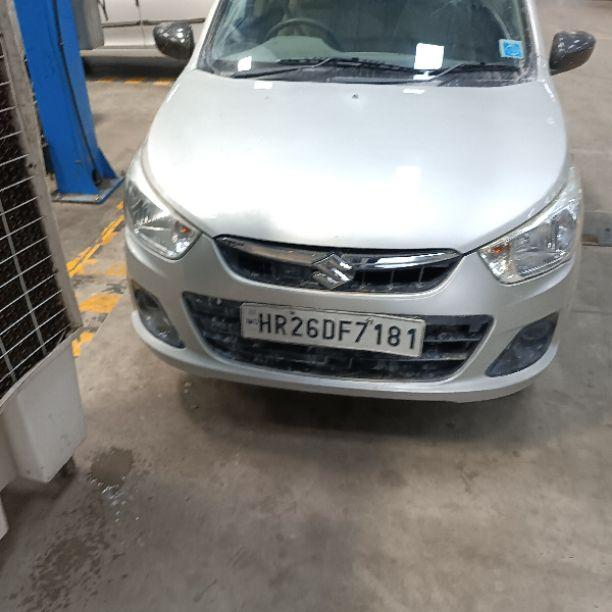license_plate: (238, 301, 426, 358)
